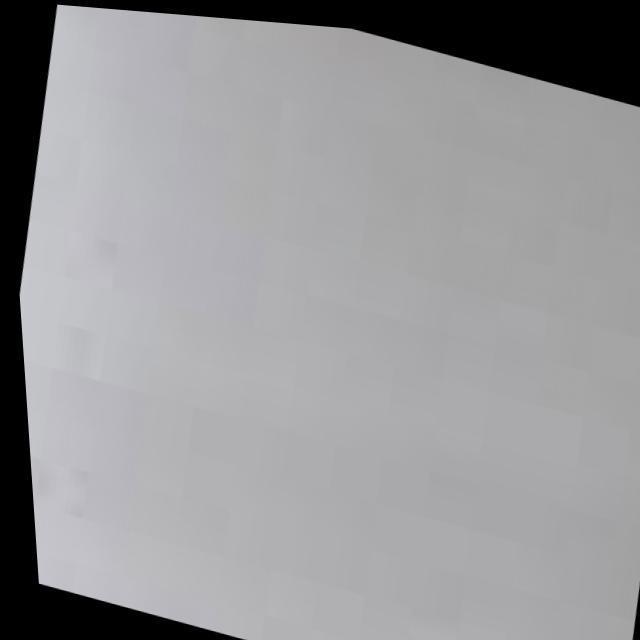metal-plates: (16, 5, 640, 640)
